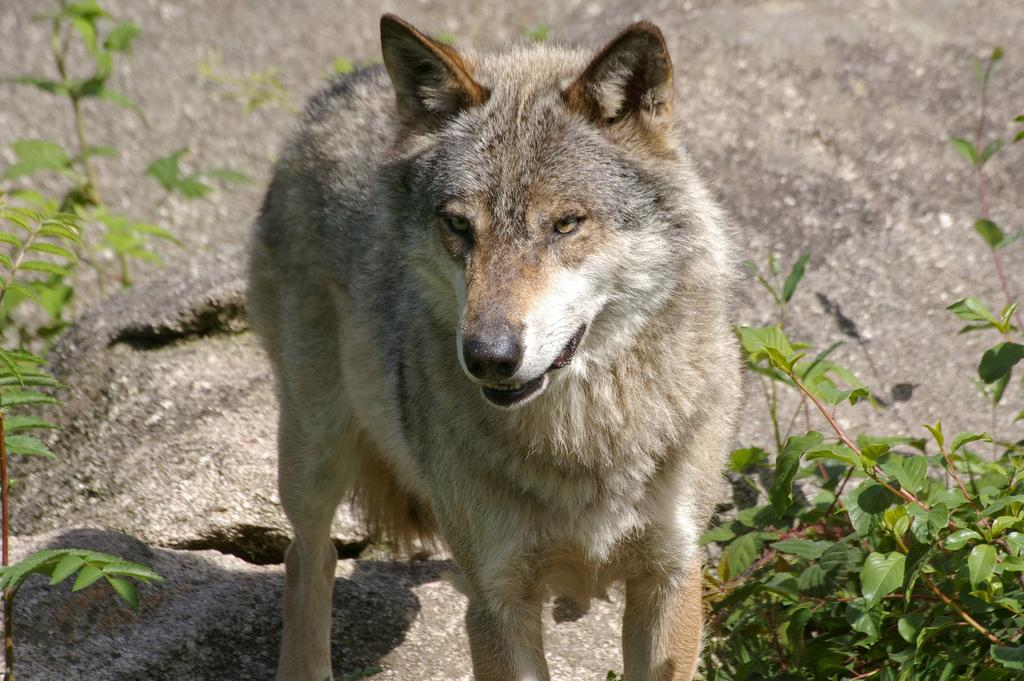Wolf: (247, 13, 743, 681)
